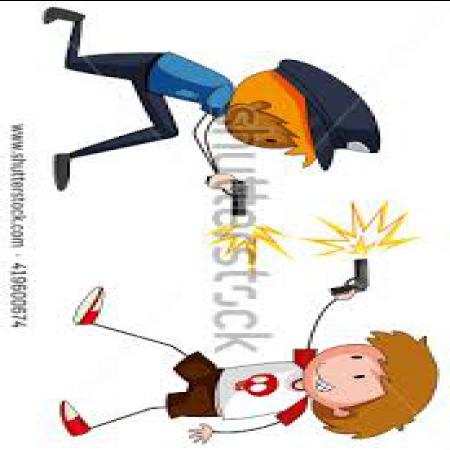Pistol: (210, 172, 254, 216), (334, 256, 376, 293)
